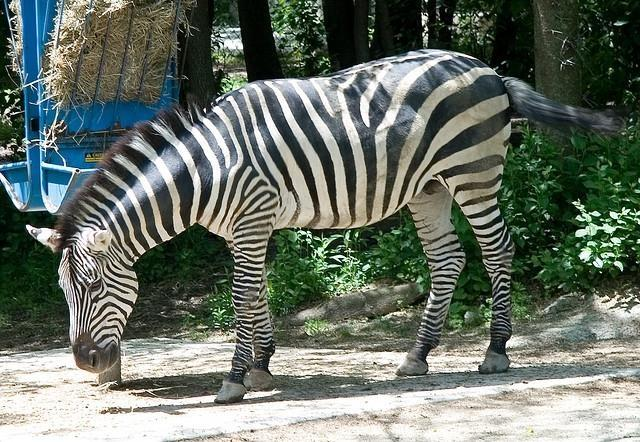truck: (1, 2, 186, 222)
